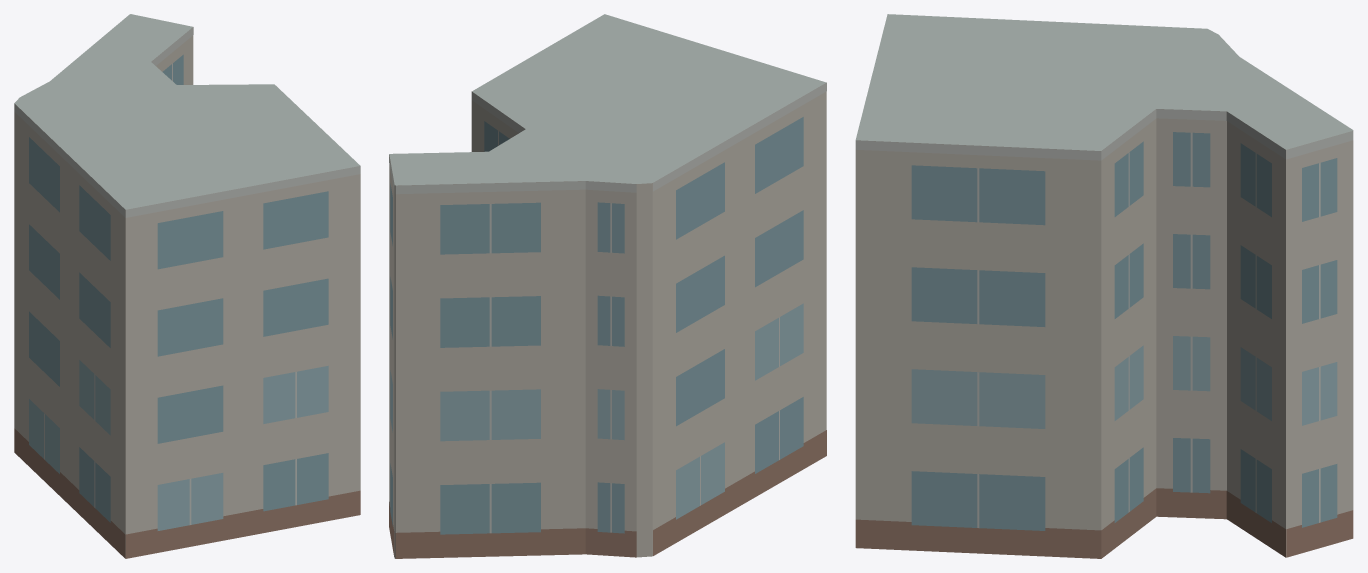
Rendered from survey-upis-32609806.glb.
3 views of the same model, side by side, from view 1: azimuth 30°, elevation 25°; view 2: azimuth 150°, elevation 25°; view 3: azimuth 270°, elevation 25° (orthographic). The views are drawn at different scales.
Parts seen in each view (by area): view 1: survey-upis-32609806.tmp; view 2: survey-upis-32609806.tmp; view 3: survey-upis-32609806.tmp.
Part boxes in pixels (<box>): survey-upis-32609806.tmp: <box>14,14,360,558</box>; survey-upis-32609806.tmp: <box>389,14,826,558</box>; survey-upis-32609806.tmp: <box>855,14,1353,558</box>.
Bounding box in the file's own units: 7.51 × 10.4 × 11.52.
